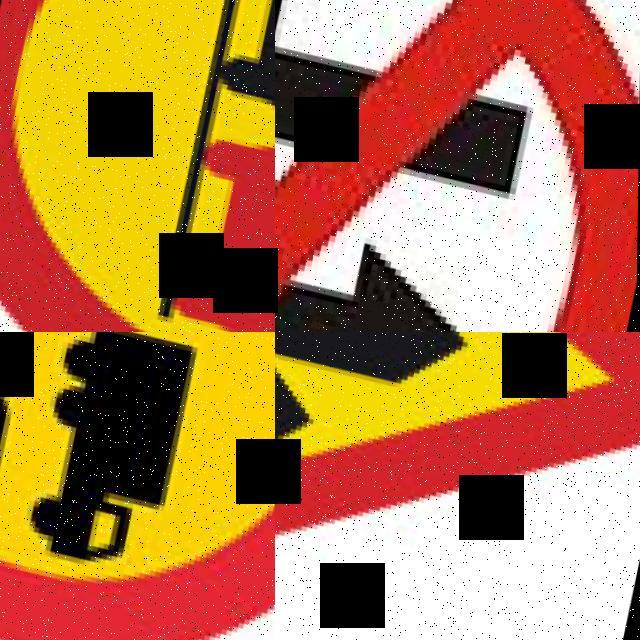15: (0, 332, 275, 640)
166: (275, 332, 640, 640)
33: (0, 0, 275, 332)
No vehicles in both directions: (275, 0, 640, 332)
